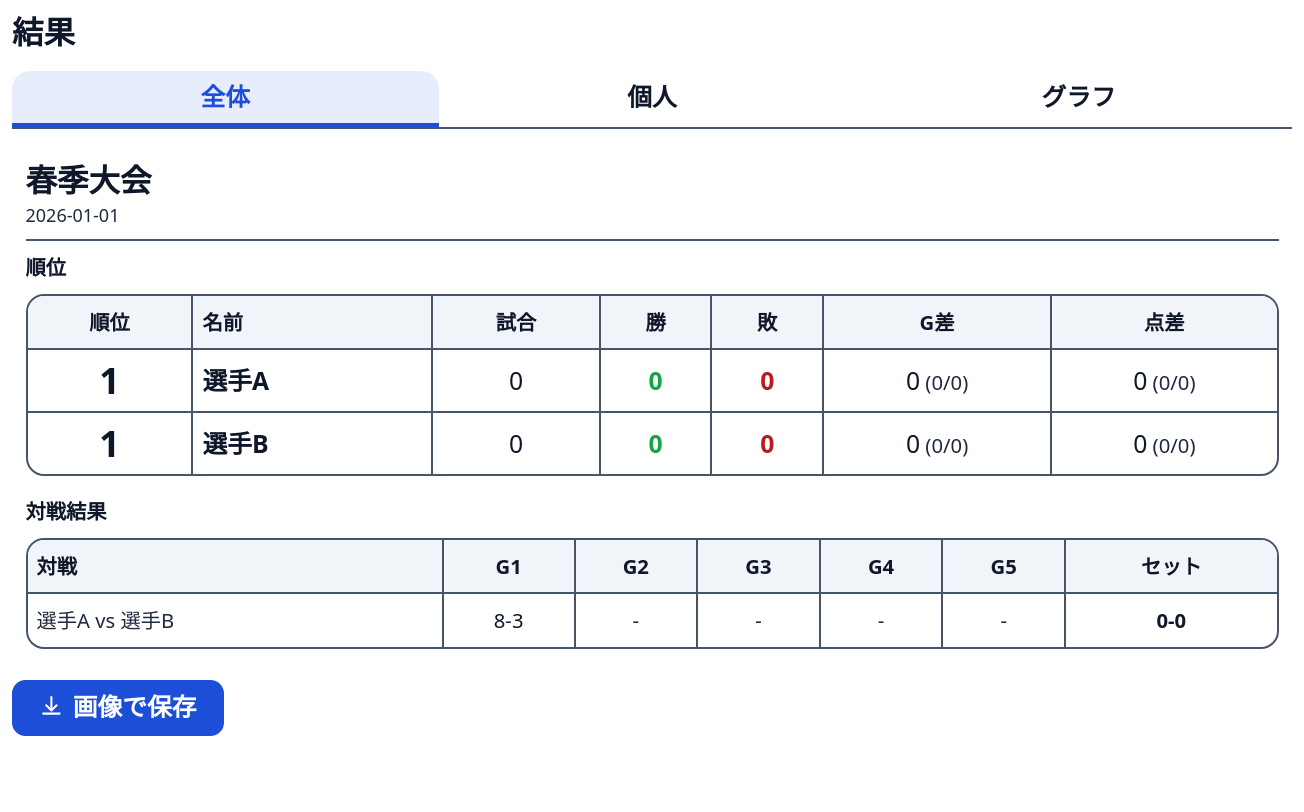
Test case: ResultTab › graphMatches あり → Select と「ゲーム 1」が表示される
Step 1. Click the tab "グラフ" → x=1079, y=99, box [865,71,1292,127]
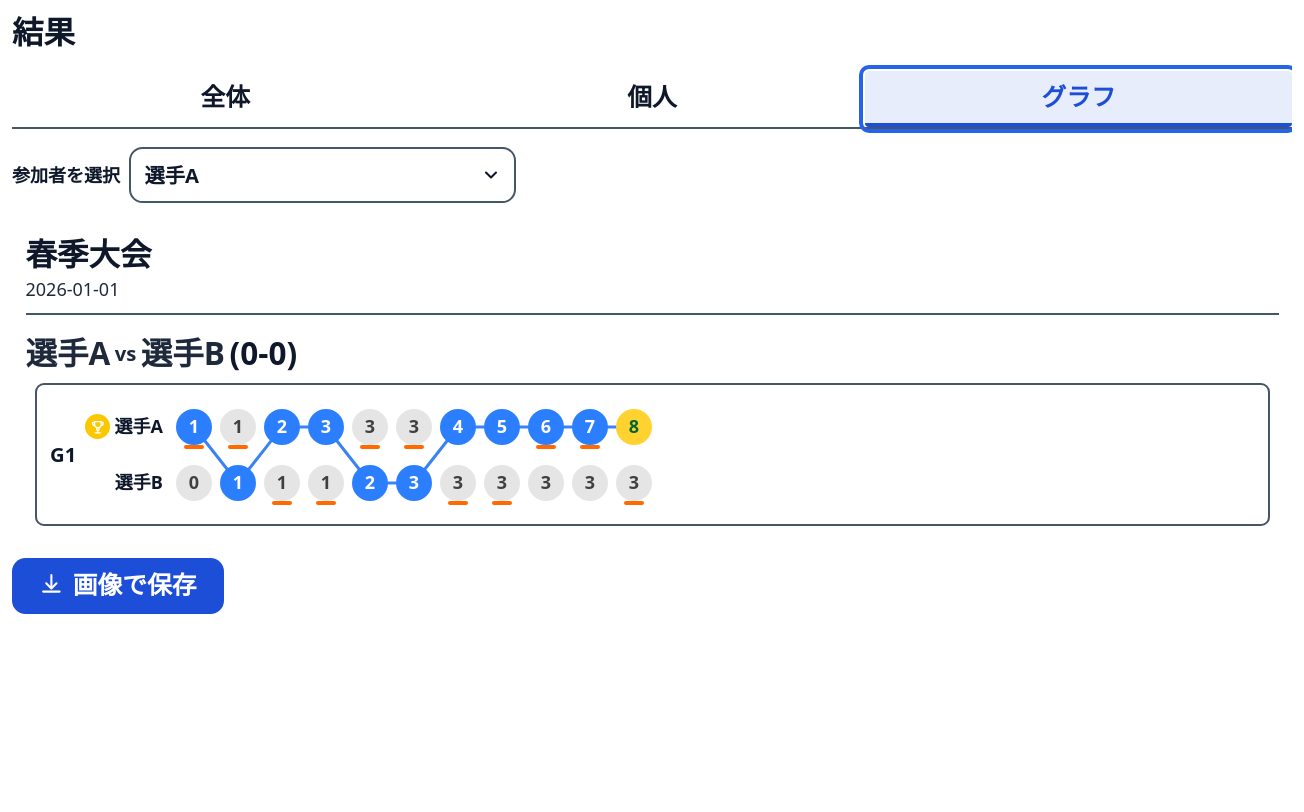
Check: the text "参加者を選択" is shown, box [12,160,120,189]
